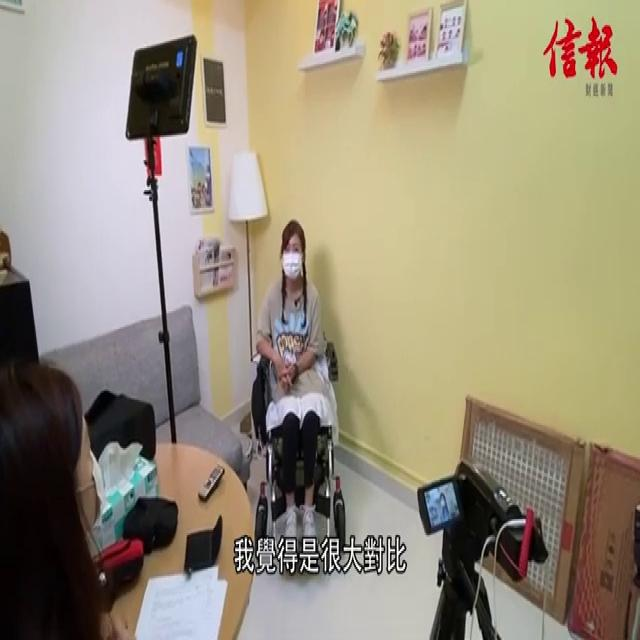wheelchairs: (249, 333, 349, 537)
